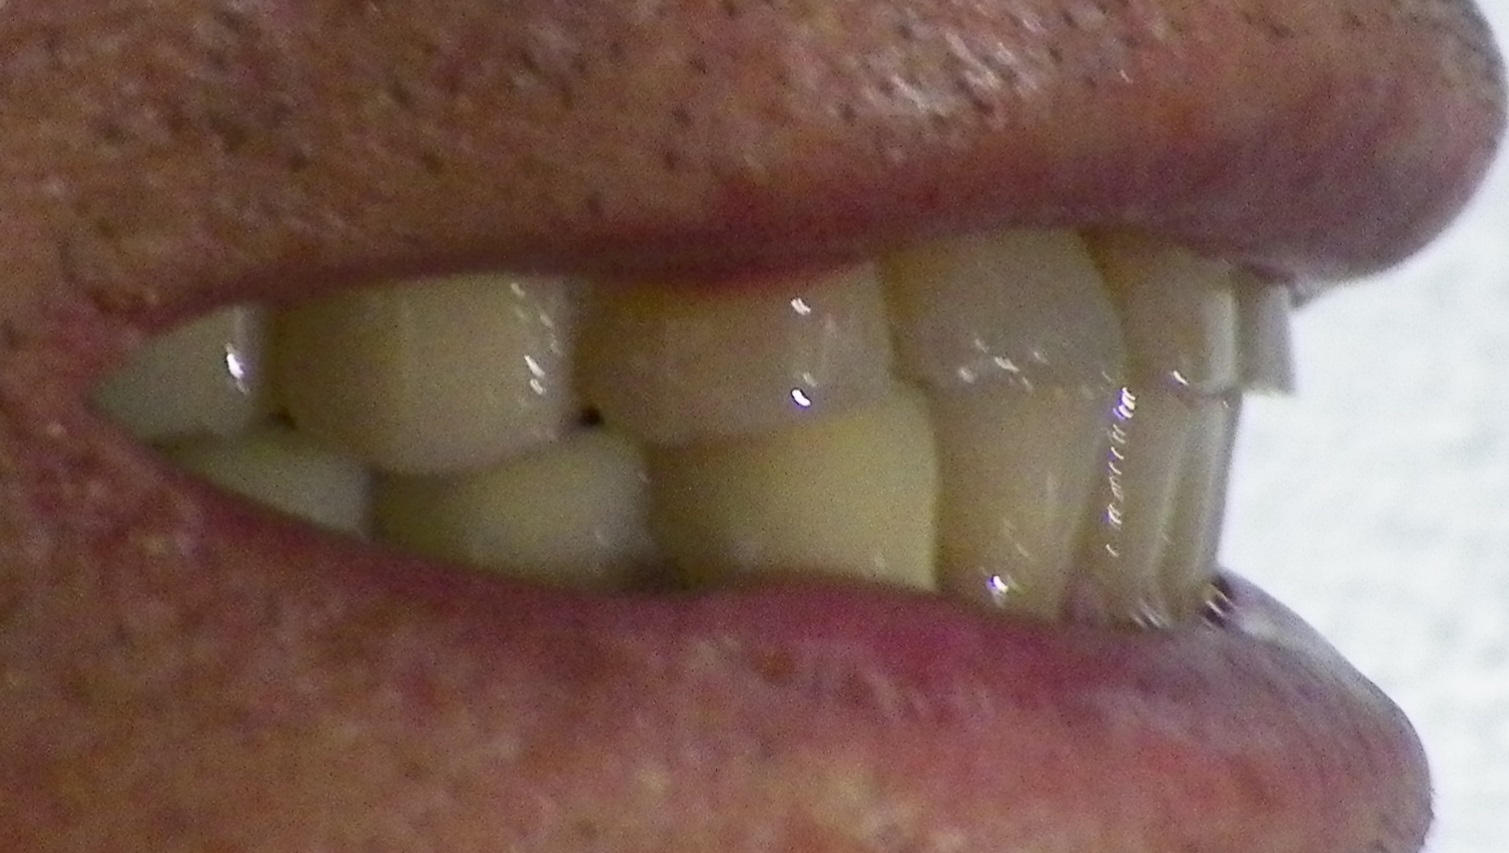boca: (91, 244, 1305, 624)
